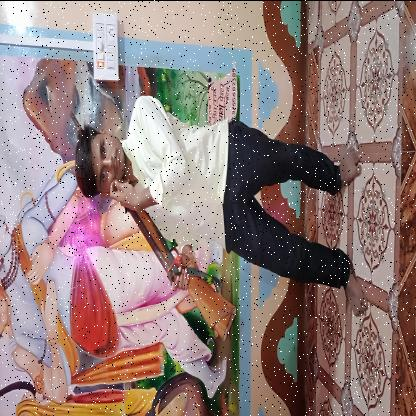rifle: (62, 95, 238, 343)
